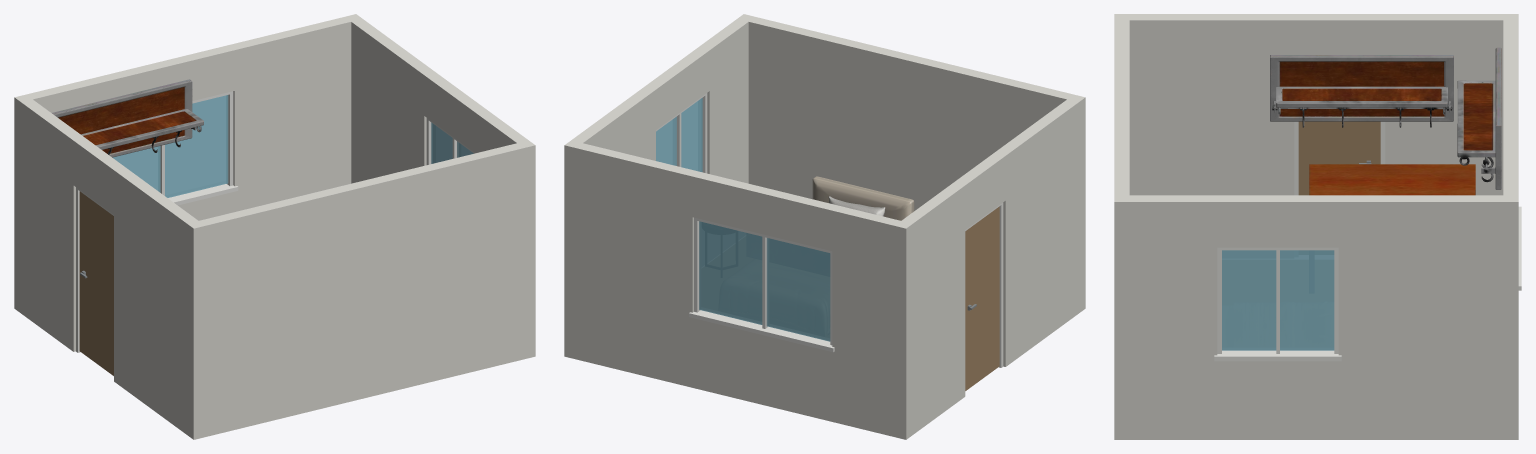
Rendered from holodeck.glb.
3 renders of one model, left to right at view 1: azimuth 30°, elevation 25°; view 2: azimuth 150°, elevation 25°; view 3: azimuth 270°, elevation 25°, orthographic. The views are drawn at different scales.
Parts seen in each view (by area): view 1: wall|scenesmith_024__R00|0, wall|scenesmith_024__R00|2, wall|scenesmith_024__R00|1, wall|scenesmith_024__R00|3, scenesmith_024__R00_6, wall|scenesmith_024__R00|1 Window 0 | glazing, wall|scenesmith_024__R00|2 Door 0 | wood leaf, wall|scenesmith_024__R00|1 Window 0 | jamb, wall|scenesmith_024__R00|3 Window 0 | glazing, wall|scenesmith_024__R00|2 Door 0 | jamb; view 2: wall|scenesmith_024__R00|1, wall|scenesmith_024__R00|0, wall|scenesmith_024__R00|2, wall|scenesmith_024__R00|3, wall|scenesmith_024__R00|1 Window 0 | glazing, wall|scenesmith_024__R00|2 Door 0 | wood leaf, wall|scenesmith_024__R00|1 Window 0 | jamb, raw_model, wall|scenesmith_024__R00|3 Window 0 | glazing, wall|scenesmith_024__R00|2 Door 0 | jamb, wall|scenesmith_024__R00|3 Window 0 | jamb; view 3: wall|scenesmith_024__R00|3, wall|scenesmith_024__R00|2, scenesmith_024__R00_6, wall|scenesmith_024__R00|3 Window 0 | glazing, scenesmith_024__R00_3, wall|scenesmith_024__R00|2 Door 0 | wood leaf, wall|scenesmith_024__R00|3 Window 0 | jamb, wall|scenesmith_024__R00|0, wall|scenesmith_024__R00|1, wall|scenesmith_024__R00|2 Door 0 | jamb.
Boxes of the visible parts, x1=… form: wall|scenesmith_024__R00|0: x1=187, y1=140, x2=535, y2=439; wall|scenesmith_024__R00|2: x1=15, y1=94, x2=205, y2=438; wall|scenesmith_024__R00|1: x1=14, y1=14, x2=362, y2=313; wall|scenesmith_024__R00|3: x1=351, y1=19, x2=532, y2=219; scenesmith_024__R00_6: x1=52, y1=79, x2=203, y2=157; wall|scenesmith_024__R00|1 Window 0 | glazing: x1=113, y1=95, x2=228, y2=197; wall|scenesmith_024__R00|2 Door 0 | wood leaf: x1=79, y1=191, x2=113, y2=375; wall|scenesmith_024__R00|1 Window 0 | jamb: x1=160, y1=91, x2=238, y2=205; wall|scenesmith_024__R00|3 Window 0 | glazing: x1=431, y1=122, x2=473, y2=163; wall|scenesmith_024__R00|2 Door 0 | jamb: x1=76, y1=187, x2=113, y2=352; wall|scenesmith_024__R00|1: x1=564, y1=140, x2=912, y2=439; wall|scenesmith_024__R00|0: x1=737, y1=14, x2=1085, y2=313; wall|scenesmith_024__R00|2: x1=895, y1=94, x2=1084, y2=434; wall|scenesmith_024__R00|3: x1=571, y1=19, x2=748, y2=183; wall|scenesmith_024__R00|1 Window 0 | glazing: x1=699, y1=221, x2=830, y2=341; wall|scenesmith_024__R00|2 Door 0 | wood leaf: x1=965, y1=206, x2=999, y2=390; wall|scenesmith_024__R00|1 Window 0 | jamb: x1=689, y1=217, x2=834, y2=352; raw_model: x1=812, y1=176, x2=914, y2=220; wall|scenesmith_024__R00|3 Window 0 | glazing: x1=656, y1=98, x2=702, y2=172; wall|scenesmith_024__R00|2 Door 0 | jamb: x1=965, y1=202, x2=1003, y2=367; wall|scenesmith_024__R00|3 Window 0 | jamb: x1=656, y1=93, x2=707, y2=173; wall|scenesmith_024__R00|3: x1=1114, y1=195, x2=1518, y2=439; wall|scenesmith_024__R00|2: x1=1114, y1=14, x2=1518, y2=195; scenesmith_024__R00_6: x1=1270, y1=47, x2=1501, y2=189; wall|scenesmith_024__R00|3 Window 0 | glazing: x1=1222, y1=250, x2=1334, y2=350; scenesmith_024__R00_3: x1=1309, y1=164, x2=1475, y2=195; wall|scenesmith_024__R00|2 Door 0 | wood leaf: x1=1298, y1=121, x2=1380, y2=195; wall|scenesmith_024__R00|3 Window 0 | jamb: x1=1214, y1=247, x2=1341, y2=361; wall|scenesmith_024__R00|0: x1=1114, y1=20, x2=1129, y2=201; wall|scenesmith_024__R00|1: x1=1503, y1=20, x2=1518, y2=201; wall|scenesmith_024__R00|2 Door 0 | jamb: x1=1294, y1=121, x2=1385, y2=195.
Bounding box in the file's own units: 4.43 × 2.61 × 4.03.
Materials: 12 (6 with a texture image).
